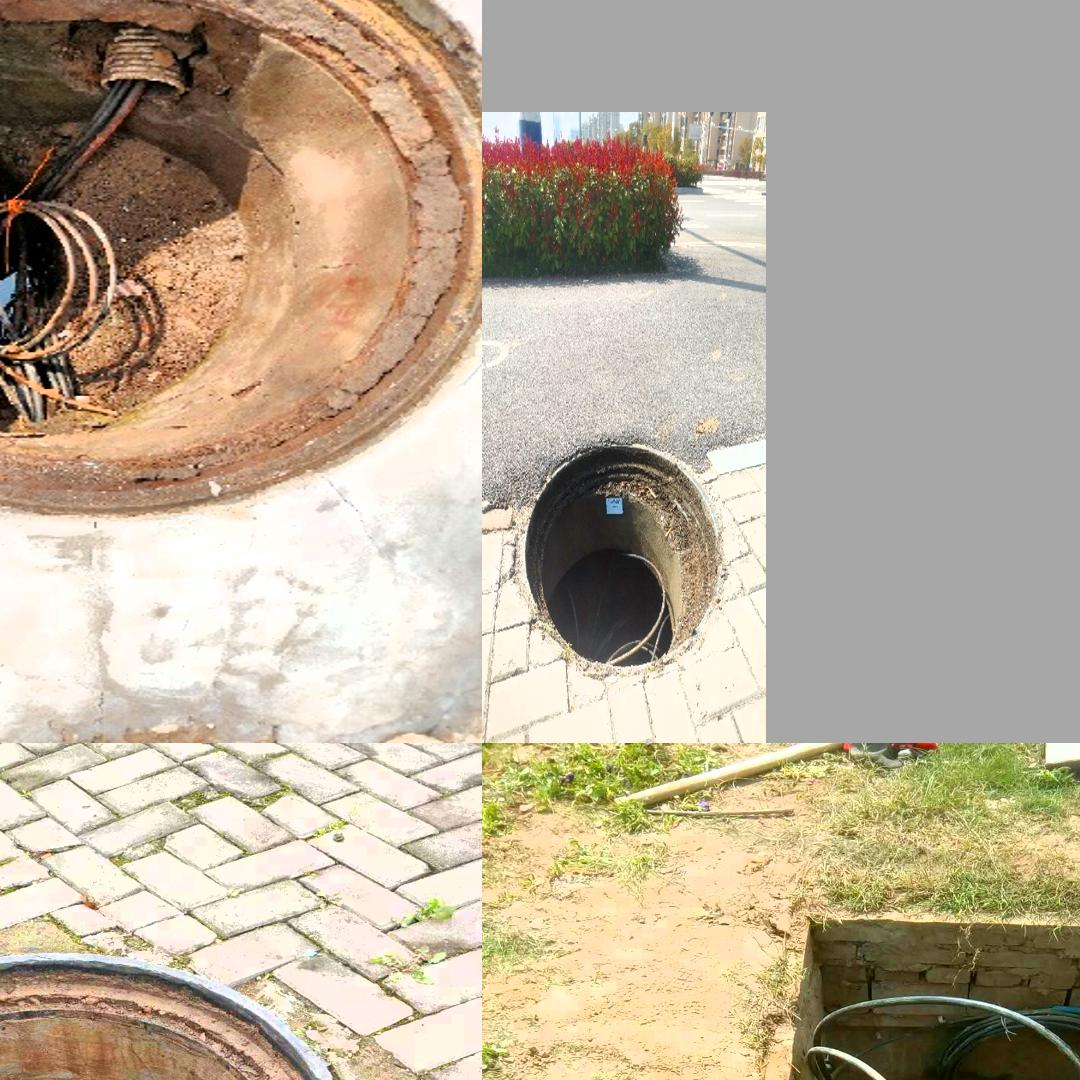lose: (0, 0, 477, 518), (745, 903, 1080, 1080), (518, 441, 726, 676), (0, 950, 354, 1080)
